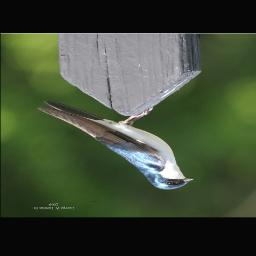Swallow: (36, 100, 195, 190)
